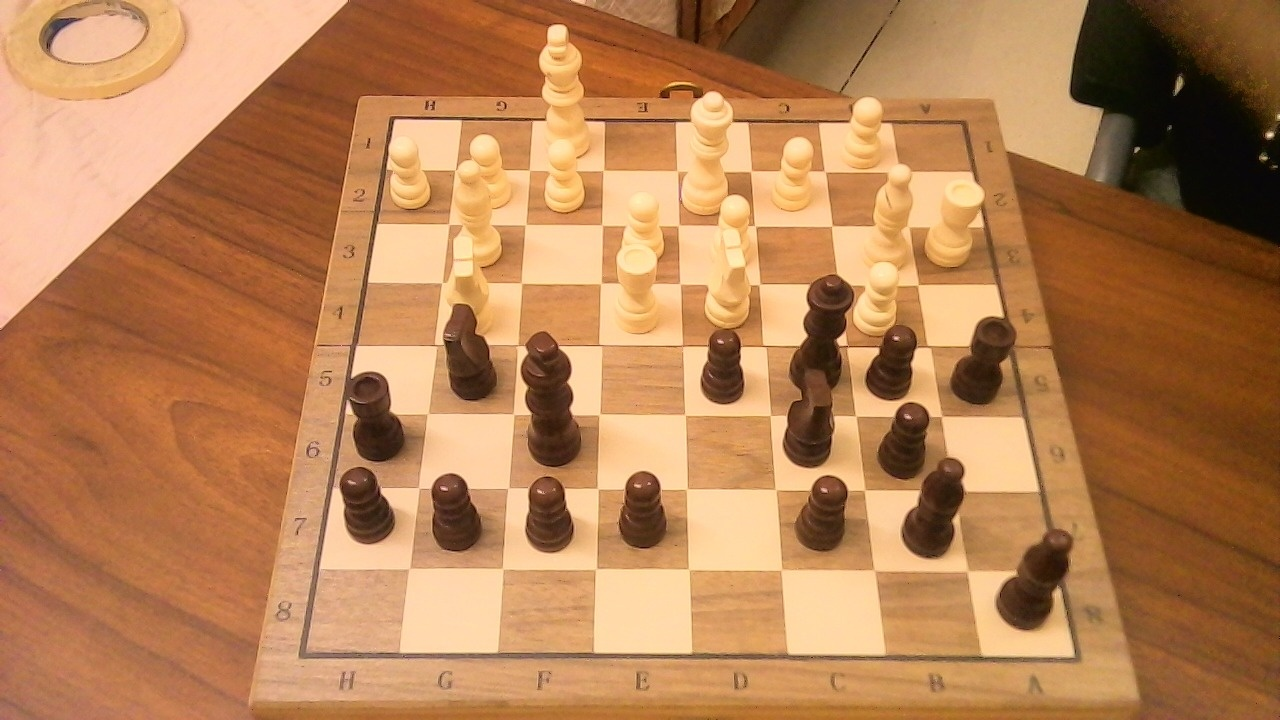B: (448, 148, 513, 271), (862, 153, 922, 275)
K: (534, 14, 597, 163)
N: (692, 246, 759, 325), (454, 231, 498, 314)
P: (610, 181, 671, 279), (764, 128, 823, 216), (459, 126, 518, 214), (535, 130, 592, 217), (834, 87, 892, 171), (382, 129, 436, 211), (857, 252, 907, 340), (706, 186, 758, 268)
Q: (680, 78, 743, 221)
R: (921, 169, 990, 273), (605, 232, 669, 340)
b: (996, 516, 1085, 632), (921, 444, 979, 564)
k: (517, 321, 594, 469)
n: (435, 288, 508, 405), (777, 388, 853, 470)
p: (332, 456, 405, 548), (789, 463, 860, 555), (860, 314, 928, 402), (880, 400, 942, 480), (618, 470, 668, 550), (432, 473, 482, 552), (522, 477, 576, 550), (700, 330, 745, 405)
q: (779, 261, 863, 394)
r: (944, 302, 1025, 408), (342, 359, 416, 465)
